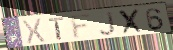6: (145, 8, 165, 31)
F: (69, 12, 93, 41)
J: (99, 11, 118, 37)
T: (47, 16, 66, 41)
X: (117, 8, 145, 37), (21, 17, 47, 46)
